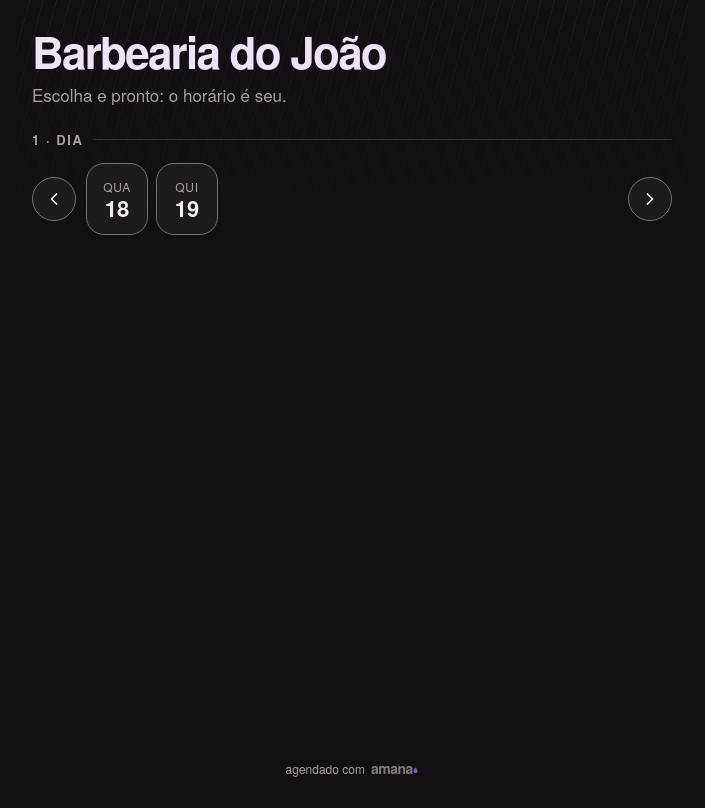
Test: página pública de agendamento › Como usamos seus dados fala do cadastro apagado em uma semana e do histórico em 3 meses
Click the button "qua 18".
click(117, 199)  # box left=86, top=163, right=148, bottom=235
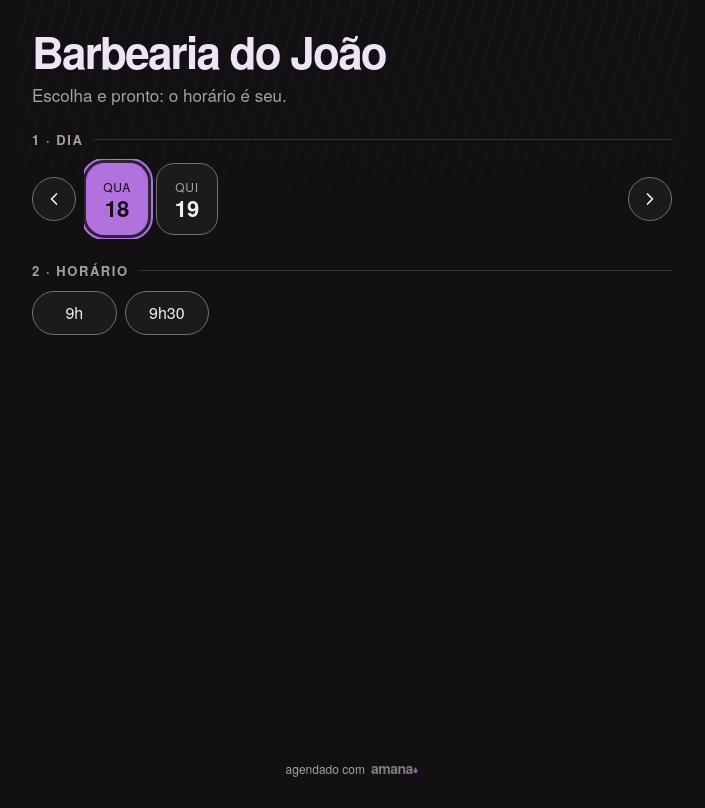
Click the button "9h".
click(74, 313)  # box left=32, top=291, right=117, bottom=335
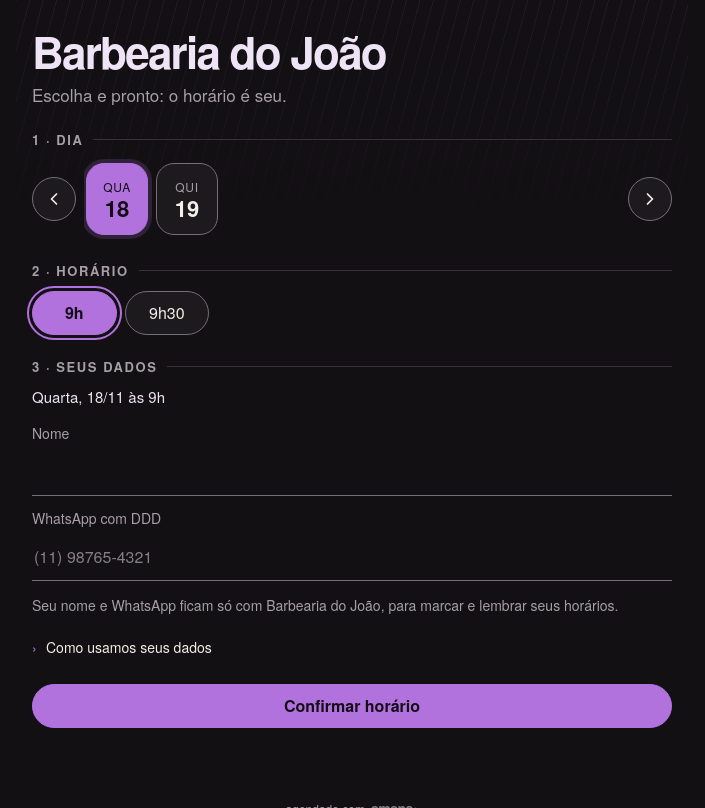
Click the heading "Como usamos seus dados".
click(129, 647)  # box left=46, top=637, right=212, bottom=657
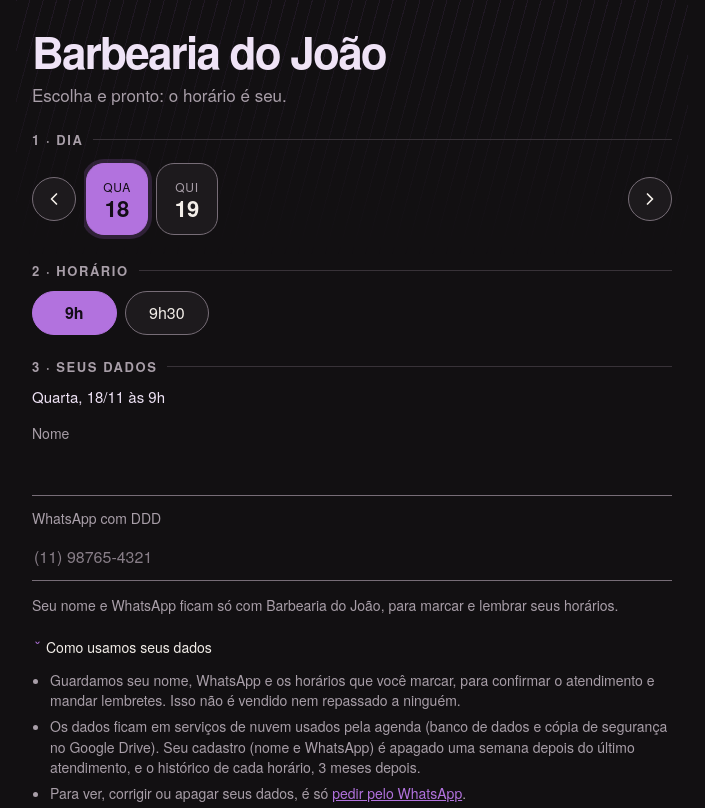
Check: the element "Como usamos seus dados" does not show "1 ano", box left=32, top=626, right=672, bottom=804
Check: the element "Como usamos seus dados" shows "Os dados ficam em serviços de nuvem usados pela agenda (banco de dados e cópia de segurança no Google Drive). Seu cadastro (nome e WhatsApp) é apagado uma seman", box left=50, top=716, right=667, bottom=777
